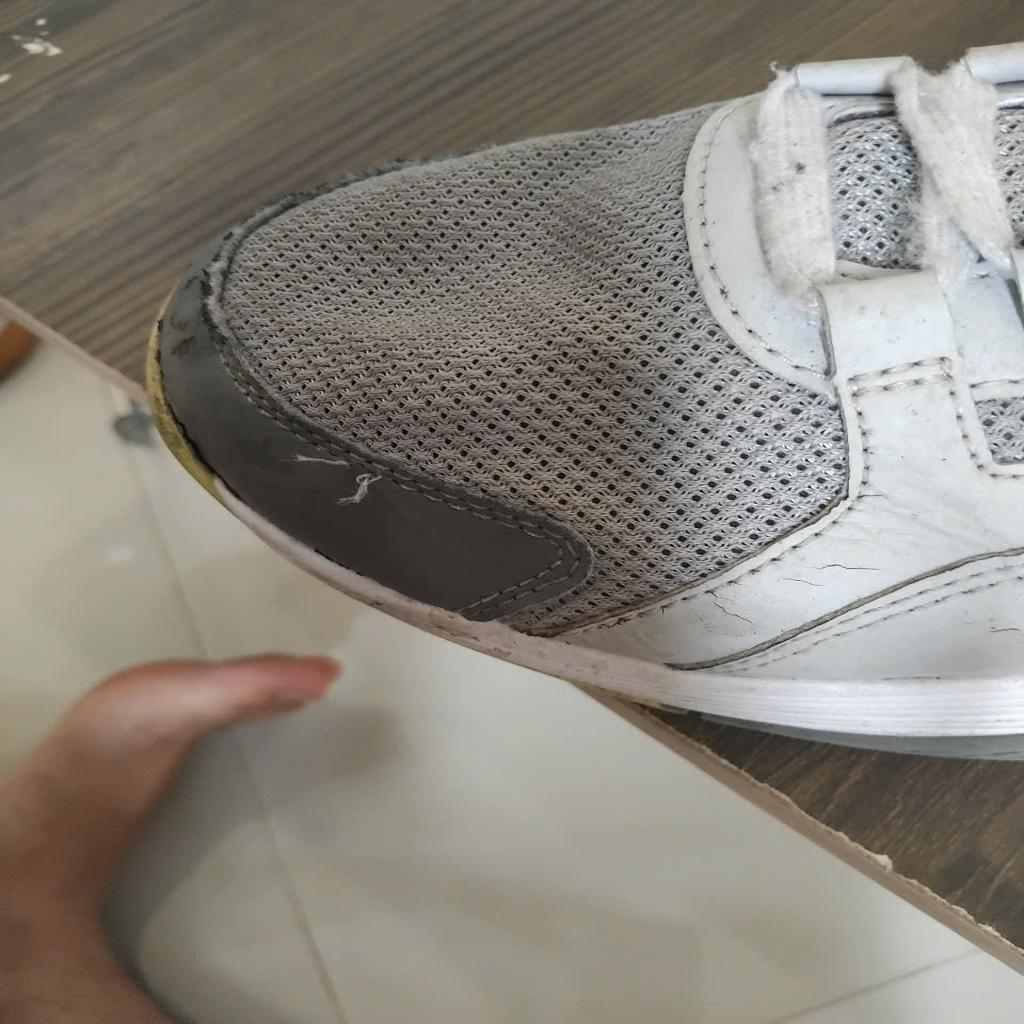broken: (295, 447, 378, 506)
